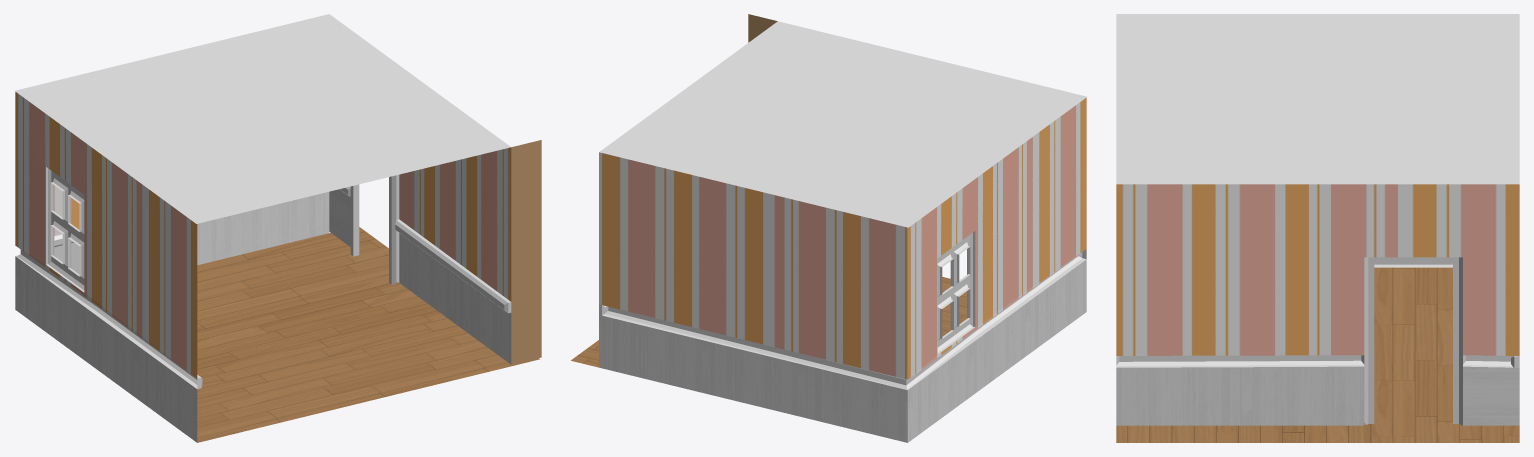
The model's file is room1.glb.
3 views of the same model, side by side, from view 1: azimuth 30°, elevation 25°; view 2: azimuth 150°, elevation 25°; view 3: azimuth 270°, elevation 25° (orthographic). The views are drawn at different scales.
Visible parts, largest first — view 1: room1; view 2: room1; view 3: room1.
Part boxes in pixels (box(x1,y1,x2,y2)): room1: box(14, 14, 541, 442); room1: box(571, 14, 1086, 442); room1: box(1116, 14, 1519, 442).
Size of the model in its own units: 0.4699 by 0.2903 by 0.4294.
1 material, 1 textured.
